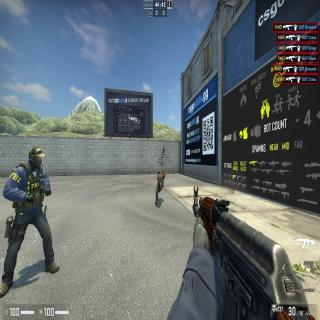CT-Body: (15, 146, 45, 277)
CT-Head: (29, 146, 42, 170)
